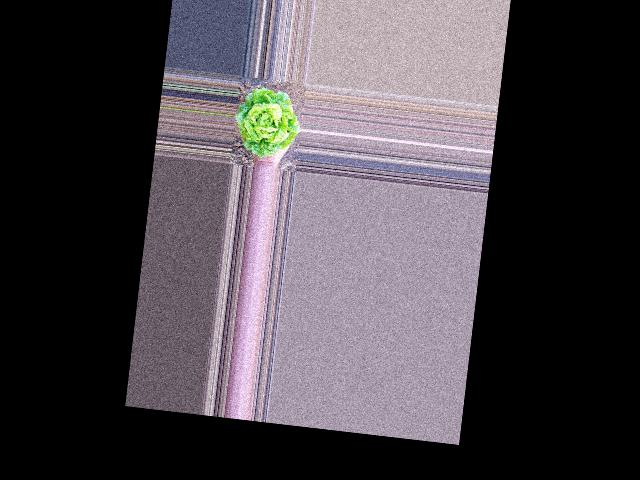lettuce: (233, 84, 302, 156)
